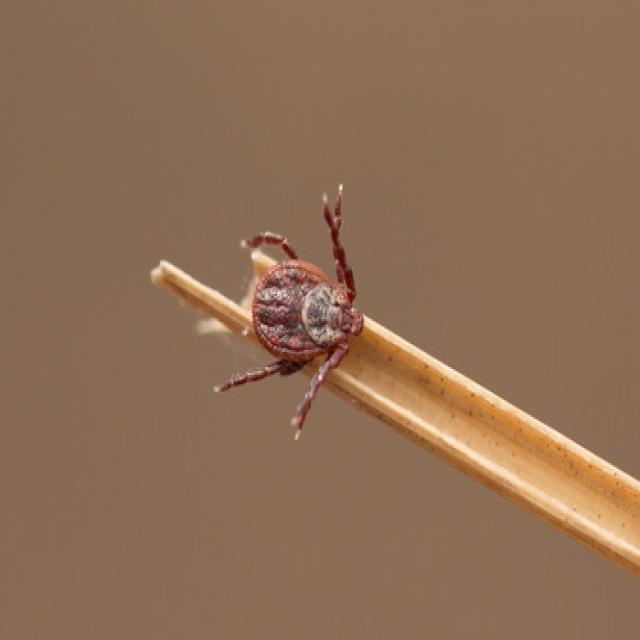Dermacentor Reticulatus-F: (214, 186, 365, 438)
